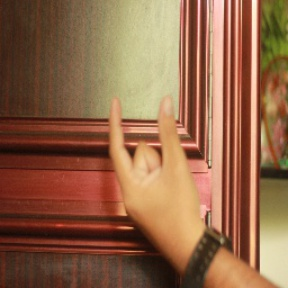U: (102, 83, 193, 214)
